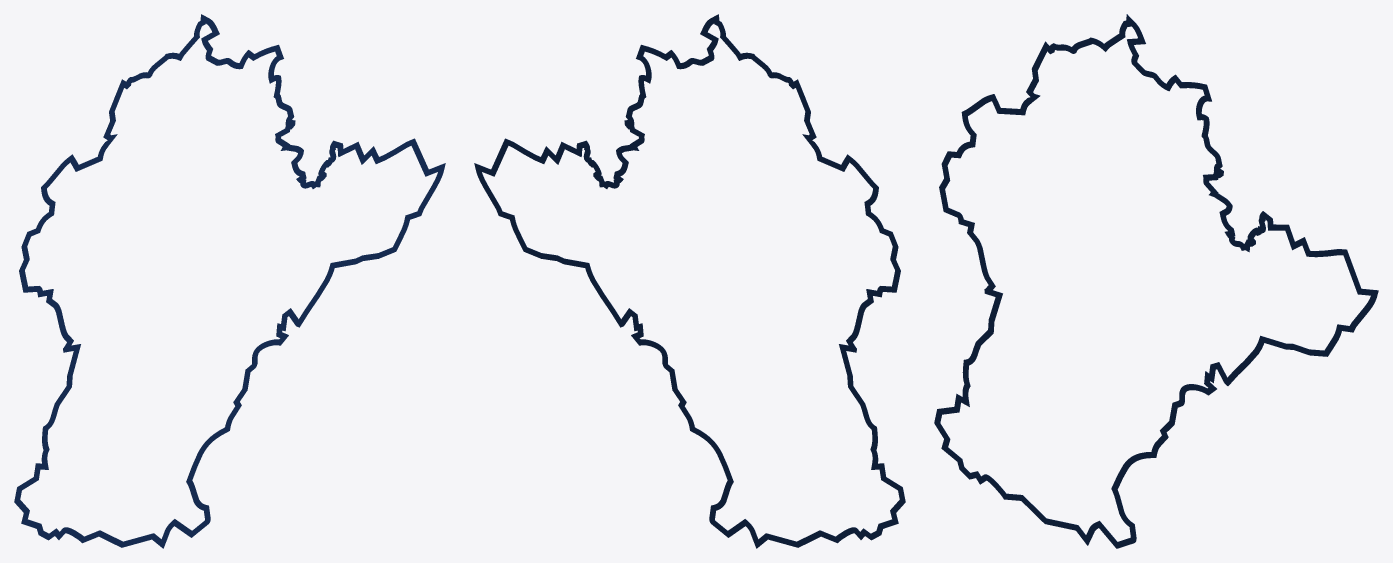
Rendered from 反光面.fbx.
The picture shows the model from 3 angles, left to right: view 1: azimuth 30°, elevation 25°; view 2: azimuth 150°, elevation 25°; view 3: azimuth 330°, elevation 25°; orthographic projection. The views are drawn at different scales.
Parts seen in each view (by area): view 1: 扫描; view 2: 扫描; view 3: 扫描.
Boxes of the visible parts, x1,y1,x2,y2 form: 扫描: (14,14,445,548); 扫描: (474,14,905,548); 扫描: (934,14,1378,548).
Bounding box in the file's own units: 1190 × 1385 × 1.
